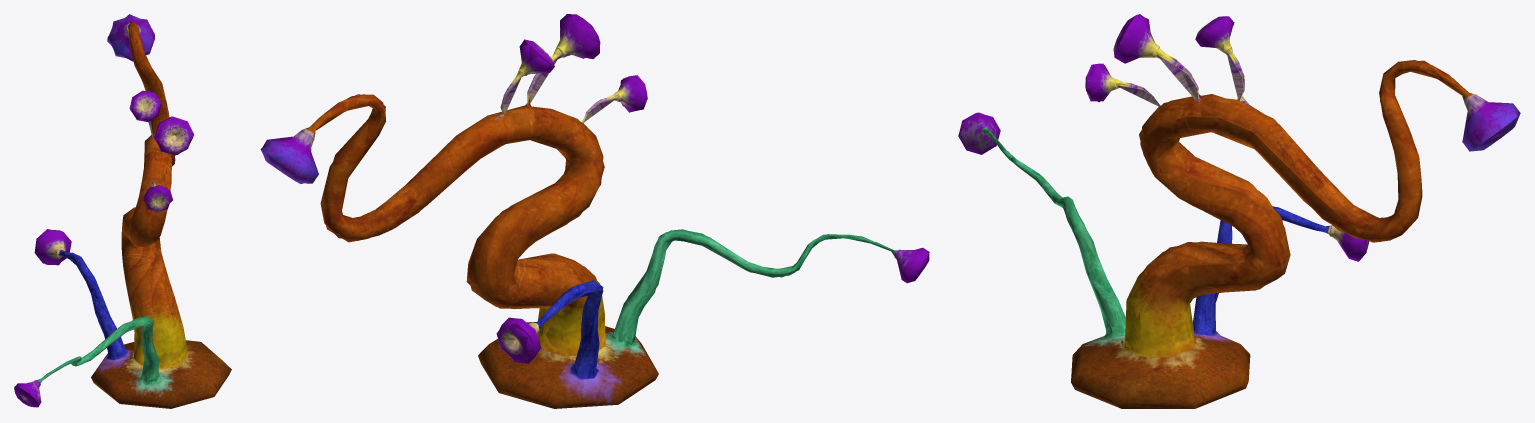
Rendered from AlienPlant-01_S22.c4d.fbx.
3 views of the same model, side by side, from view 1: azimuth 30°, elevation 25°; view 2: azimuth 150°, elevation 25°; view 3: azimuth 270°, elevation 25° (orthographic). The views are drawn at different scales.
Parts seen in each view (by area): view 1: Default; view 2: Default; view 3: Default.
Boxes of the visible parts, x1,y1,x2,y2 form: Default: (14, 14, 231, 408); Default: (260, 14, 929, 408); Default: (958, 14, 1520, 408).
Bounding box in the file's own units: 1187 × 954 × 1326.
Materials: 2 (2 with a texture image).
